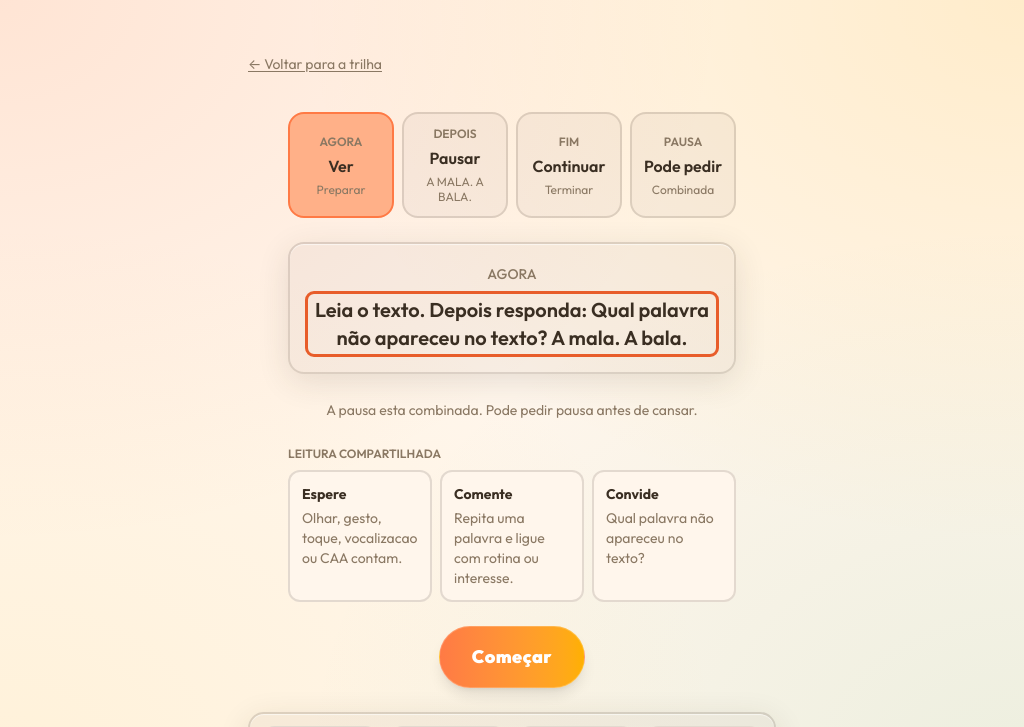
Test: Atividade › renderiza pergunta de presenca no texto pelo tipo de atividade da trilha
Expected: the text "Leia o texto. Depois responda: Qual palavra não apareceu no texto? A mala. A bala." is shown, [315,297,709,350]
What coordinates should you click on to do the following:
click the button "Começar"
I would click on:
 (512, 657)
Its box is [439,626,585,688].
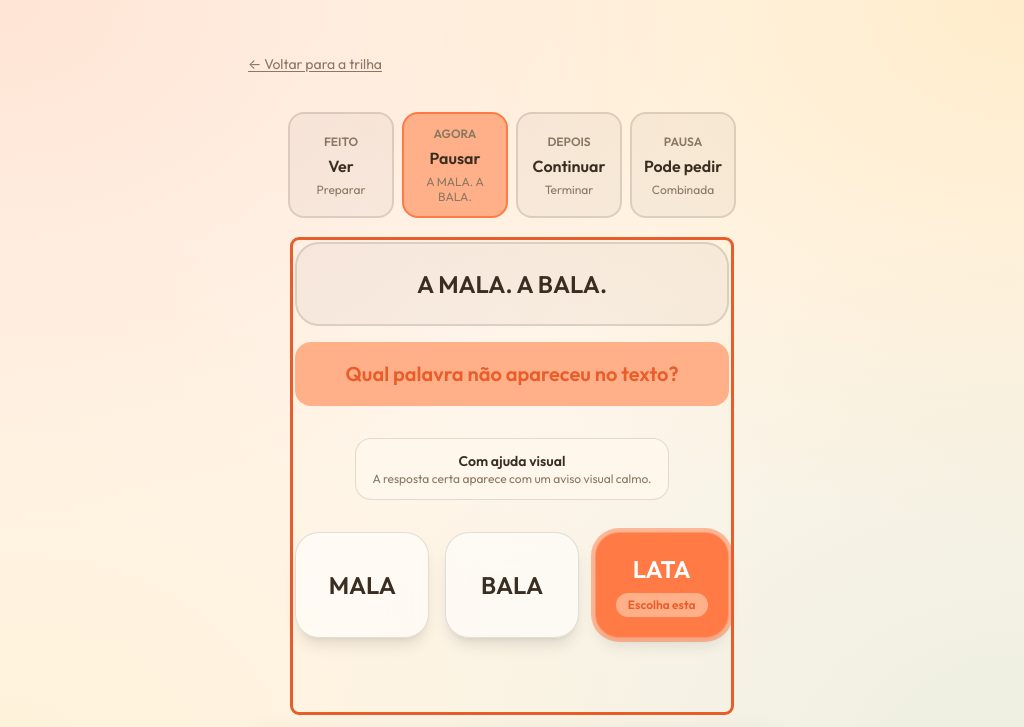
Expected: the text "Qual palavra não apareceu no texto?" is shown, [296,342,728,406]
Expected: the button named "LATA. Escolha esta" is shown, [595,532,728,638]
